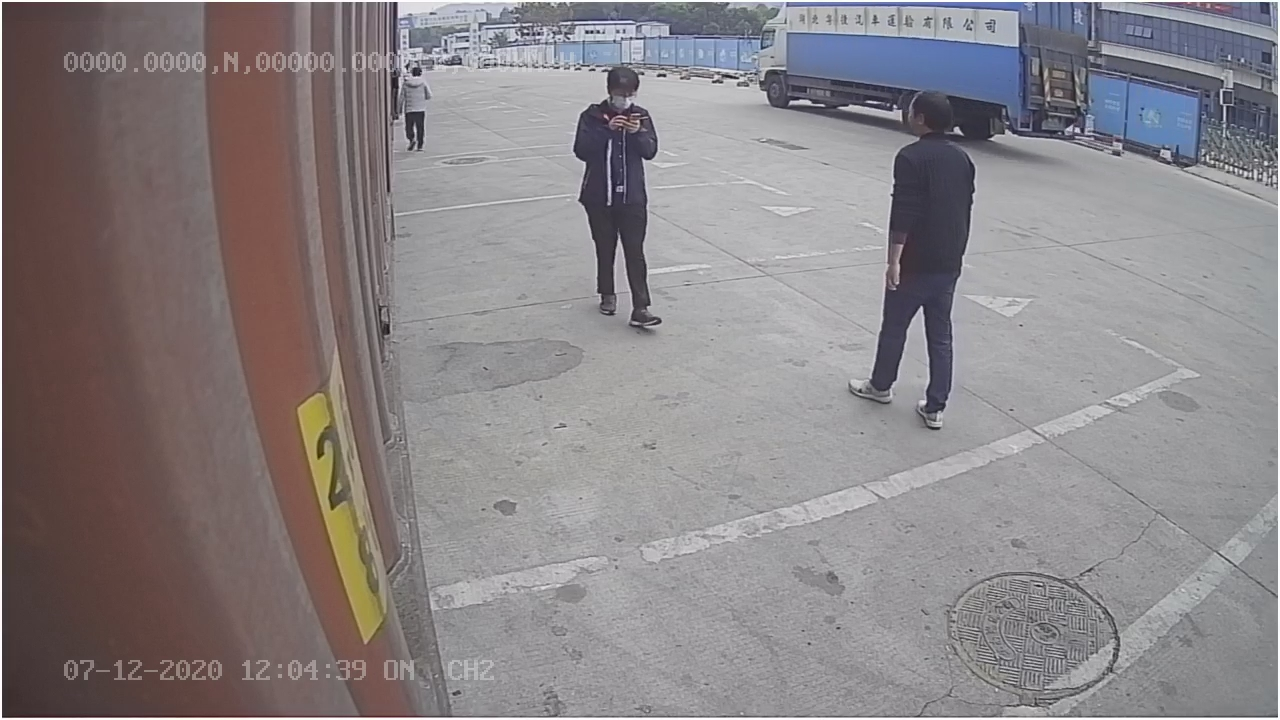person: (571, 63, 669, 326)
